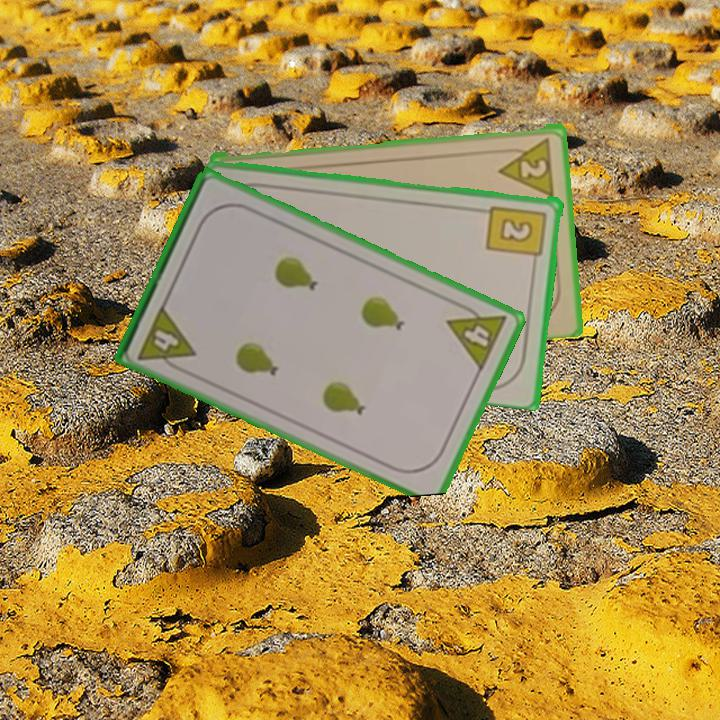2b: (484, 201, 550, 268)
2p: (494, 132, 557, 197)
4p: (443, 297, 510, 374), (134, 301, 199, 376)
